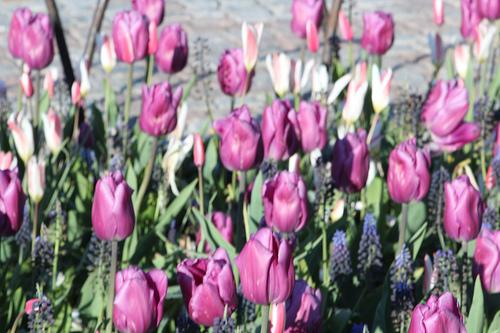tulip: (175, 247, 238, 324), (236, 230, 296, 305), (114, 267, 169, 333), (261, 169, 313, 237), (214, 106, 263, 174), (91, 171, 135, 242), (443, 173, 486, 241), (388, 137, 432, 203), (332, 127, 373, 193), (140, 79, 180, 138), (20, 13, 58, 73), (111, 10, 148, 64), (155, 22, 190, 76), (361, 7, 396, 57)
